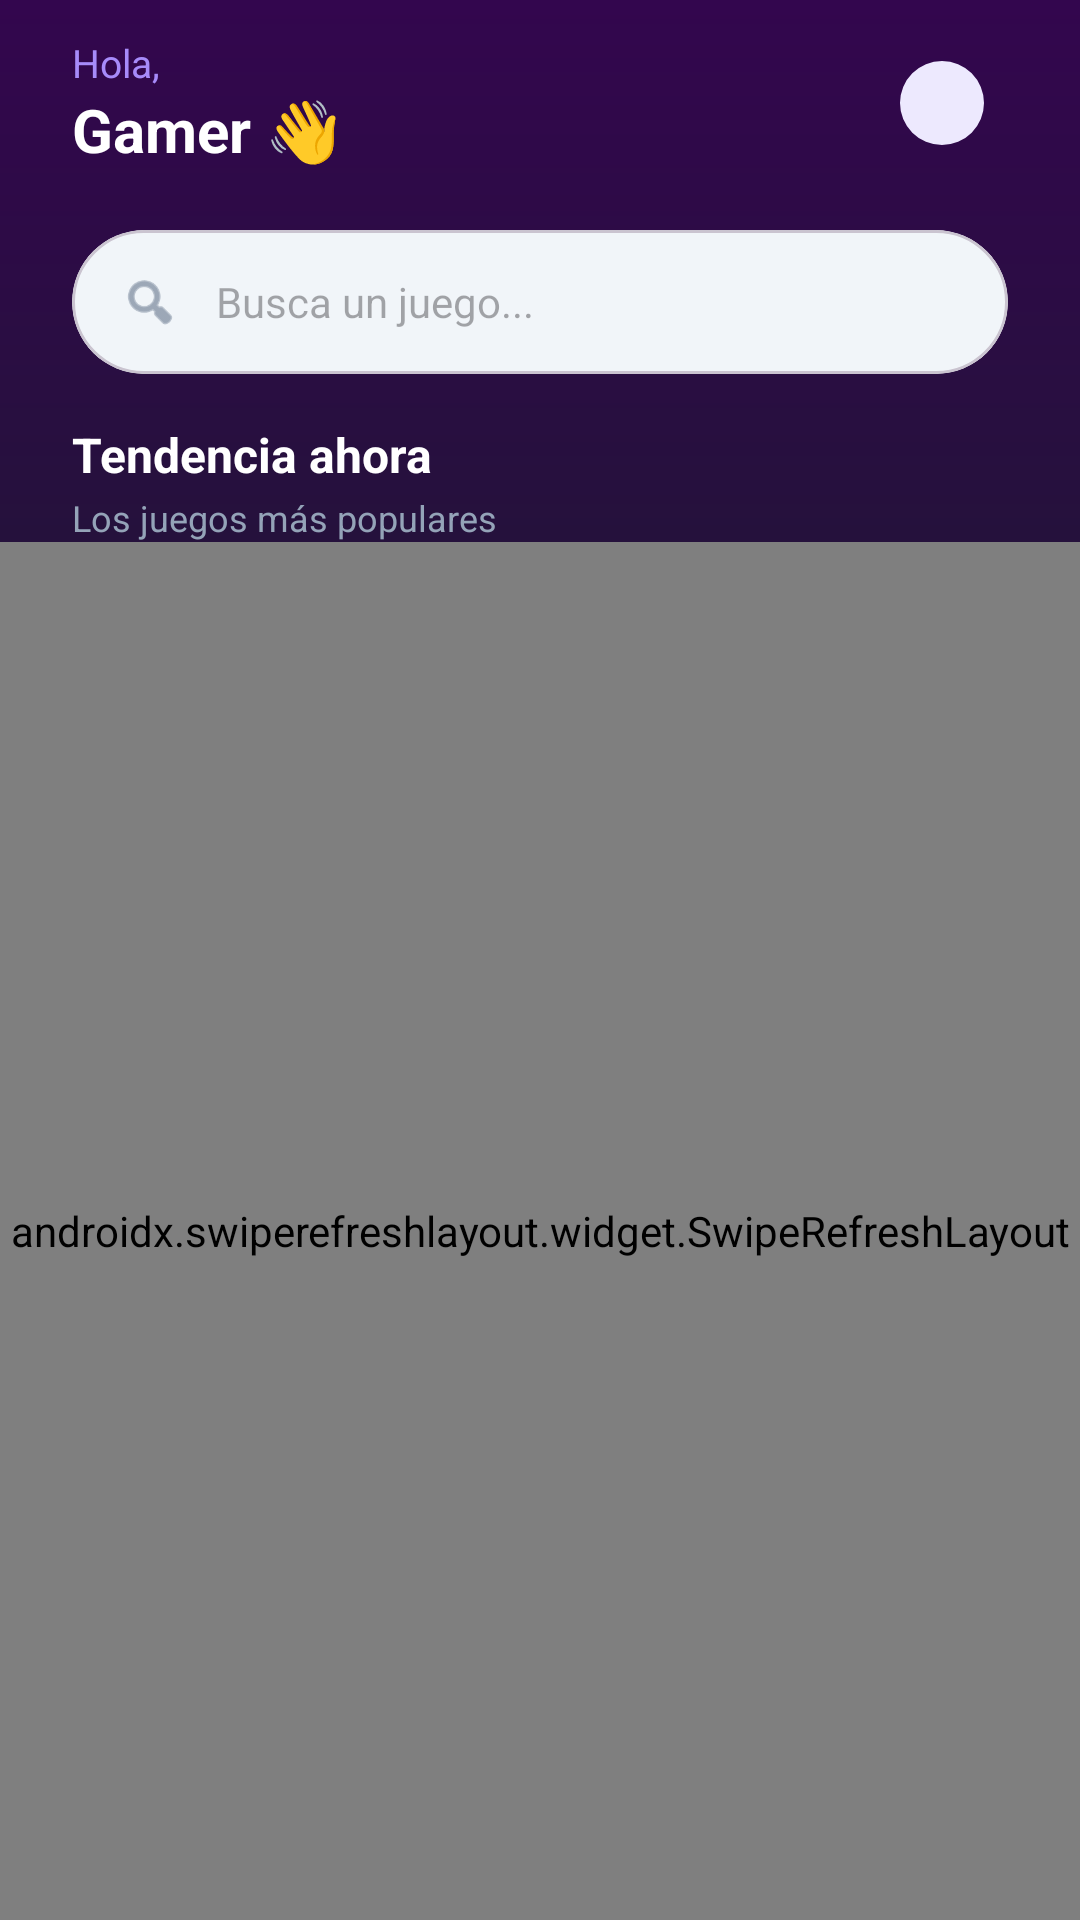

Named icons in this screenshot (1080 x 1920) and their bounding boxes, (x1, y1, x2, y2):
search: (128, 280, 172, 324)
